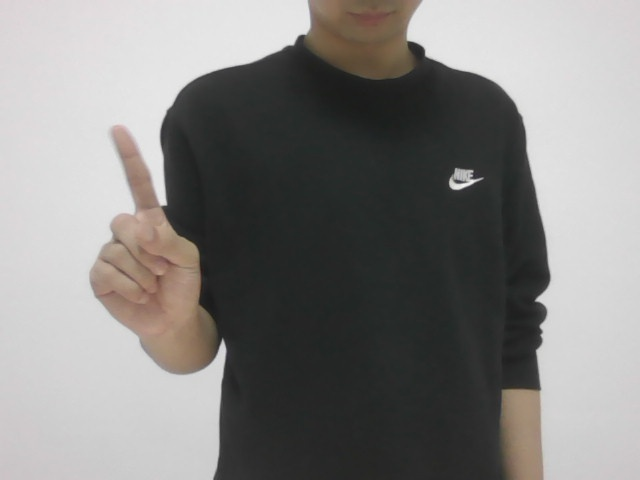what: (75, 118, 223, 351)
